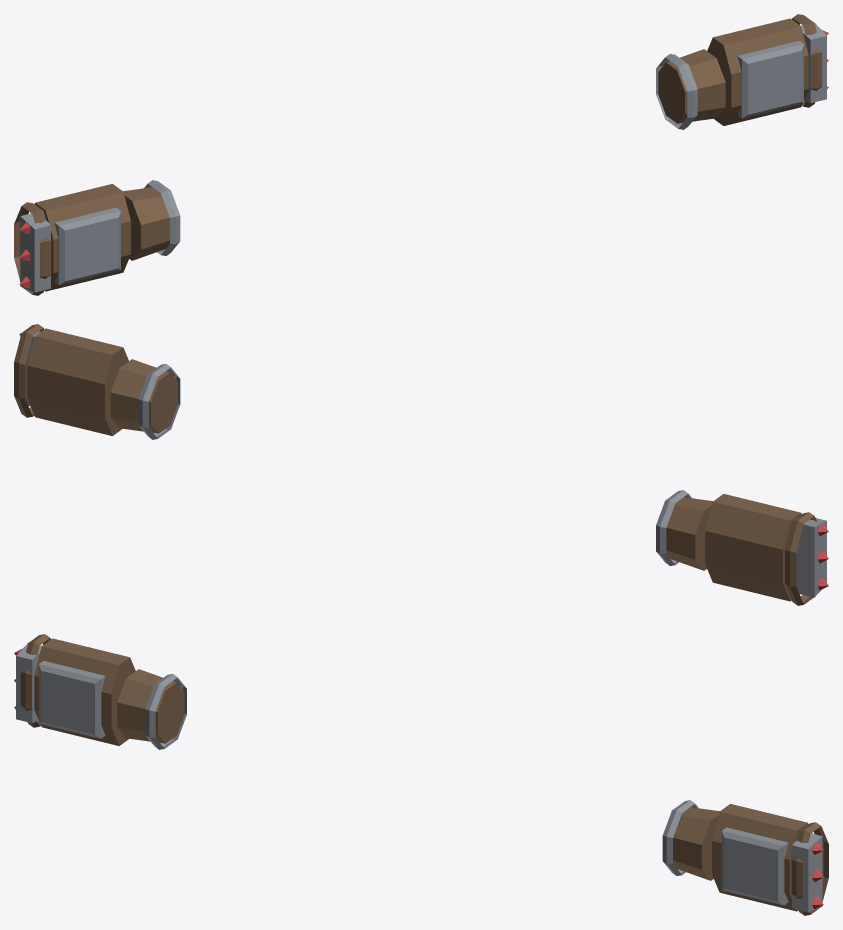
Rendered from emberfists.glb.
3 views of the same model, one above another, from view 1: azimuth 30°, elevation 25°; view 2: azimuth 150°, elevation 25°; view 3: azimuth 330°, elevation 25° (orthographic).
Visible parts, largest first — view 1: Fist1L, Fist1R, LowerArmL, LowerArmR, Fist2R, Fist2L; view 2: Fist1L, Fist1R, LowerArmL, LowerArmR, Fist2R, Fist2L; view 3: Fist1R, Fist1L, LowerArmR, LowerArmL, Fist2L, Fist2R.
Boxes of the visible parts, bbox=[...] form: Fist1L: bbox=[707, 18, 808, 125]; Fist1R: bbox=[30, 184, 130, 291]; LowerArmL: bbox=[656, 49, 725, 129]; LowerArmR: bbox=[123, 180, 180, 260]; Fist2R: bbox=[14, 202, 51, 295]; Fist2L: bbox=[792, 14, 828, 107]; Fist1L: bbox=[27, 328, 128, 435]; Fist1R: bbox=[705, 494, 801, 601]; LowerArmL: bbox=[110, 359, 180, 439]; LowerArmR: bbox=[656, 490, 712, 570]; Fist2R: bbox=[785, 512, 828, 605]; Fist2L: bbox=[14, 324, 44, 417]; Fist1R: bbox=[34, 638, 135, 745]; Fist1L: bbox=[712, 804, 812, 911]; LowerArmR: bbox=[117, 669, 186, 749]; LowerArmL: bbox=[662, 800, 719, 880]; Fist2L: bbox=[791, 822, 828, 915]; Fist2R: bbox=[14, 634, 50, 727].
Size of the model in its own units: 3.13 by 0.3156 by 0.2244.
